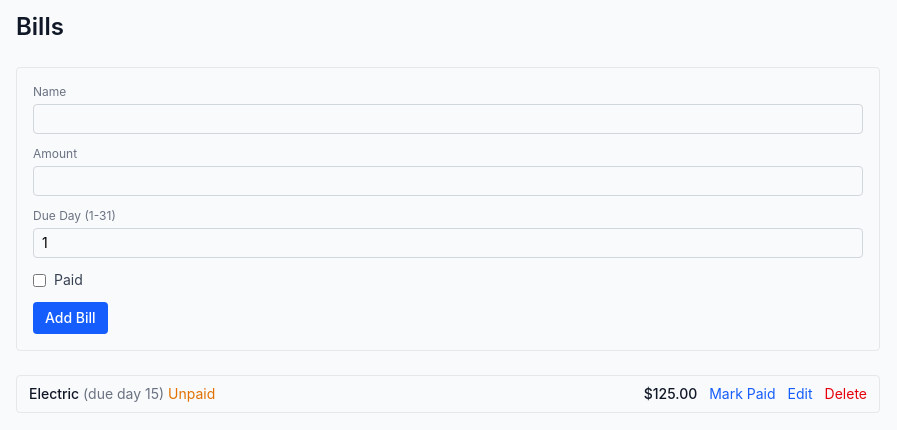
Test: BillsPage › deletes a bill after confirmation and refetches the list
Expected: the text "Electric" is shown, [29,385,79,402]
Click the button "Delete" at (846, 394), box [825,384,867,404]
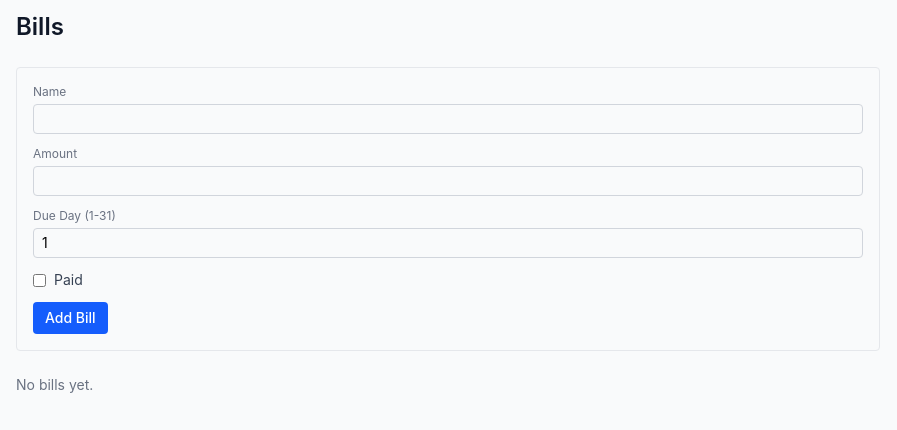
Now the text "No bills yet." is shown, box [16,376,93,393]
